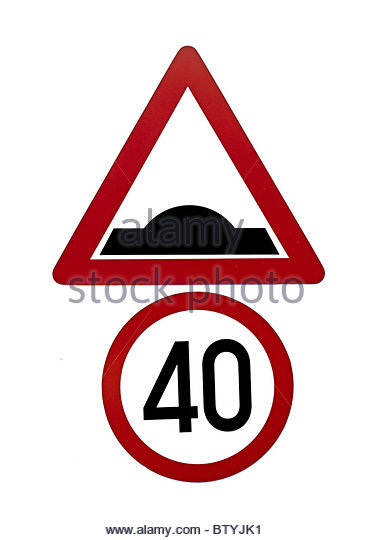Speed_limit_40km: (101, 296, 298, 478)
